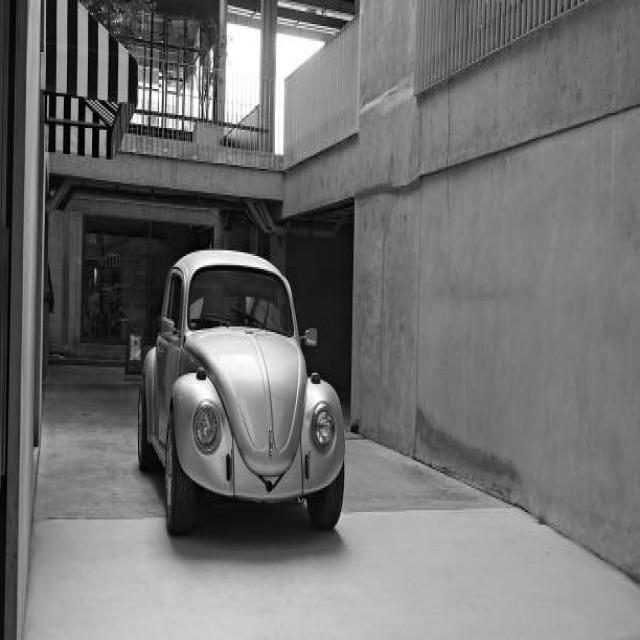car: (136, 251, 346, 543)
